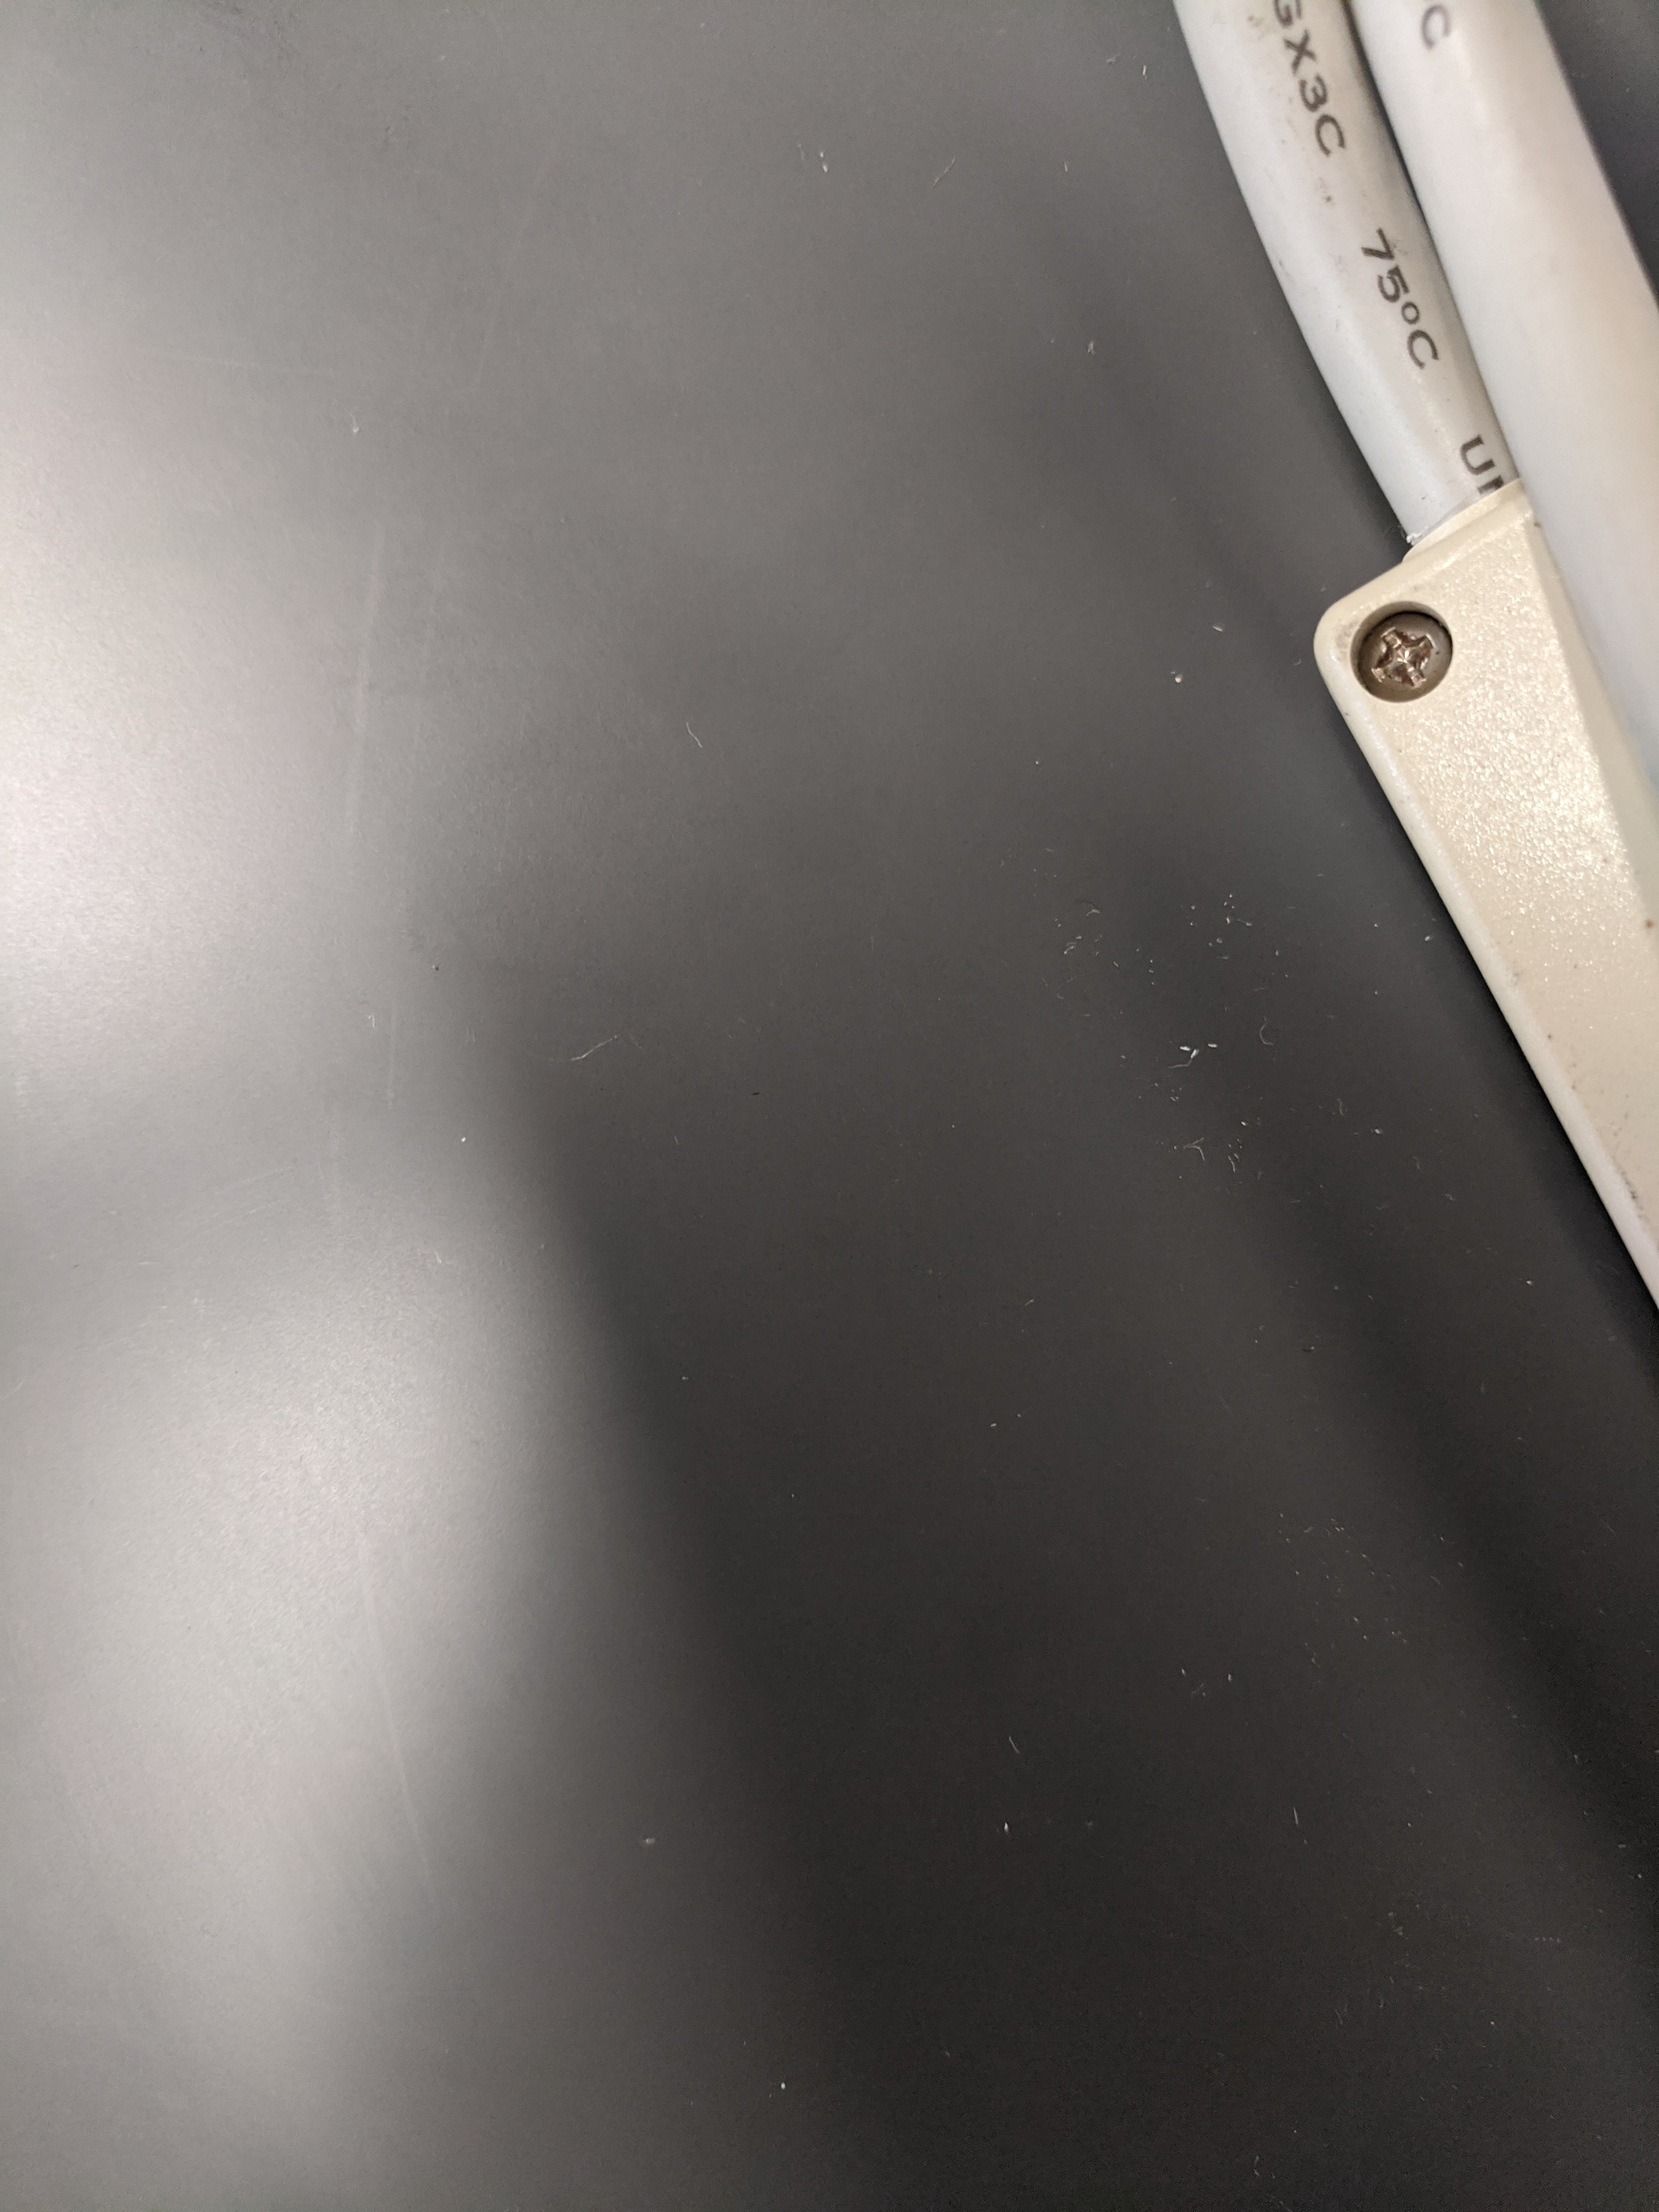cross_recessed_screw: (1328, 603, 1452, 709)
